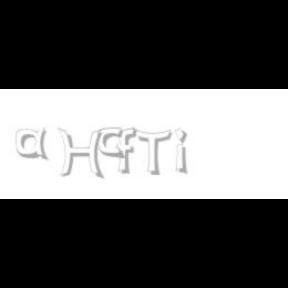H: (58, 128, 104, 180)
T: (132, 128, 172, 176)
a: (16, 128, 52, 160)
c: (98, 128, 126, 160)
f: (116, 128, 140, 174)
i: (175, 128, 191, 176)
